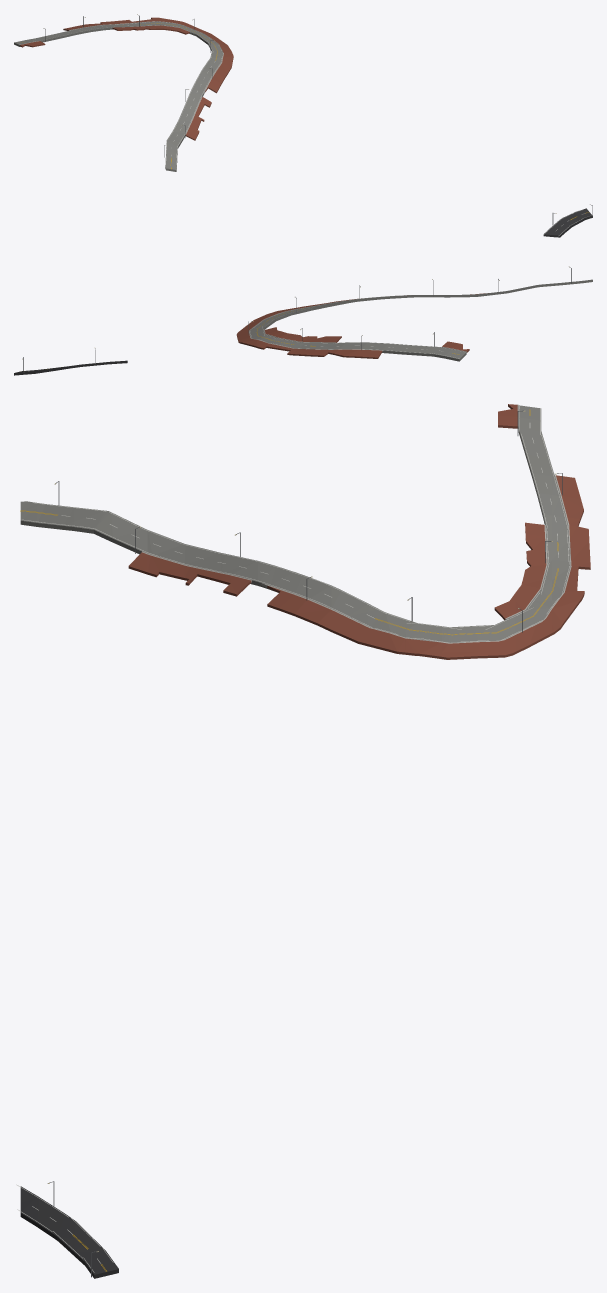
File: 17-109460-59476.5ebb6f1f.glb
3 views of the same model, one above another, from view 1: azimuth 30°, elevation 25°; view 2: azimuth 150°, elevation 25°; view 3: azimuth 270°, elevation 25° (orthographic). The views are drawn at different scales.
Bounding box in the file's own units: 294 × 131 × 156.
